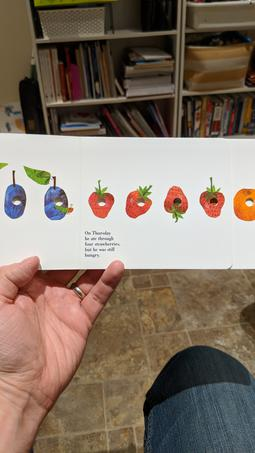text block: (81, 225, 120, 262)
